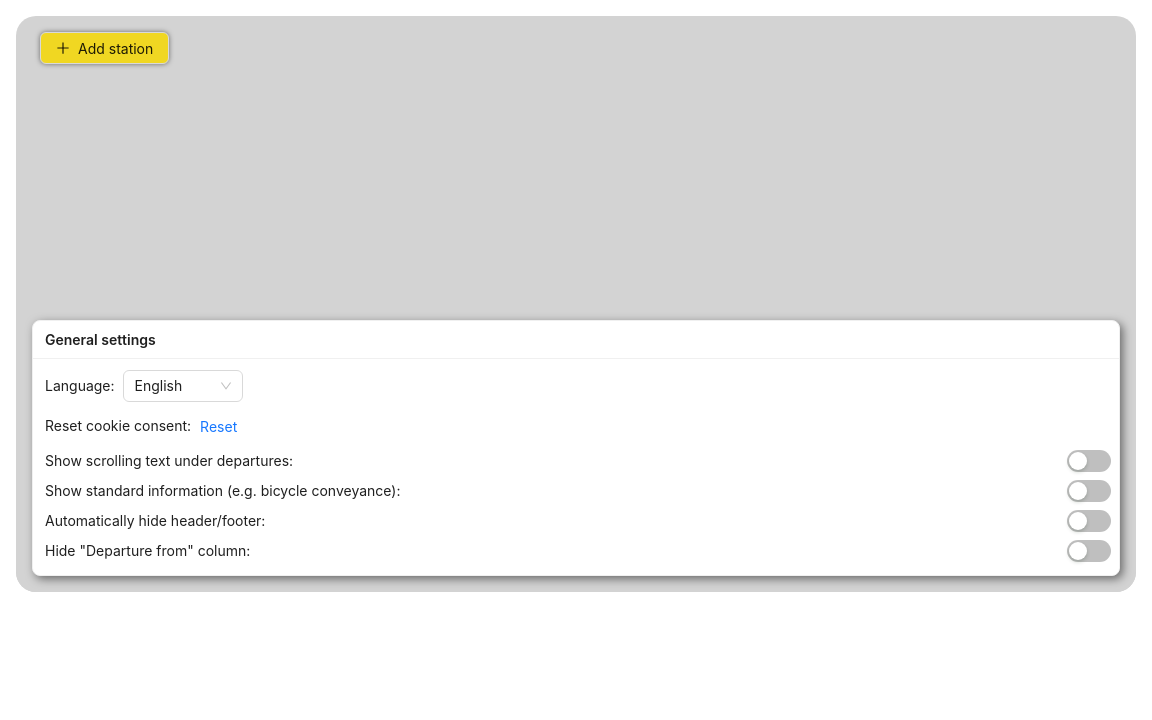
shows modal when add station button clicked
Click the button "Add station" at (105, 48), box [40,32,169,64]
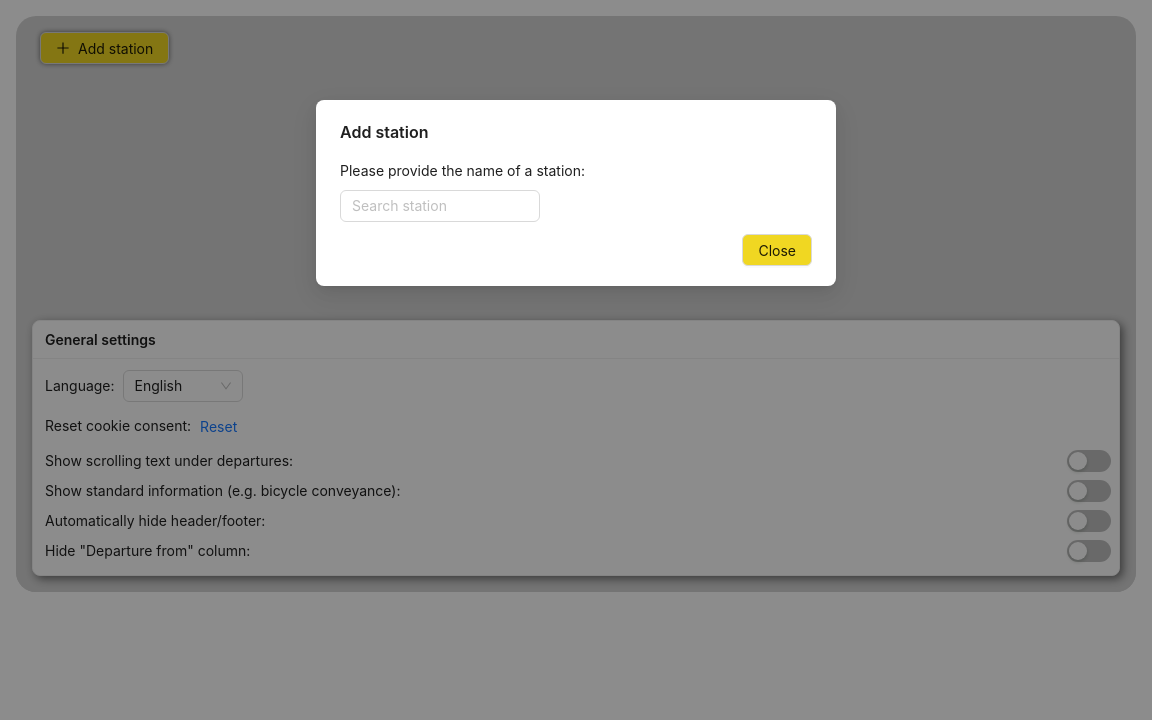
Now the text "Please provide the name of a station:" is shown, box [340,162,585,179]
